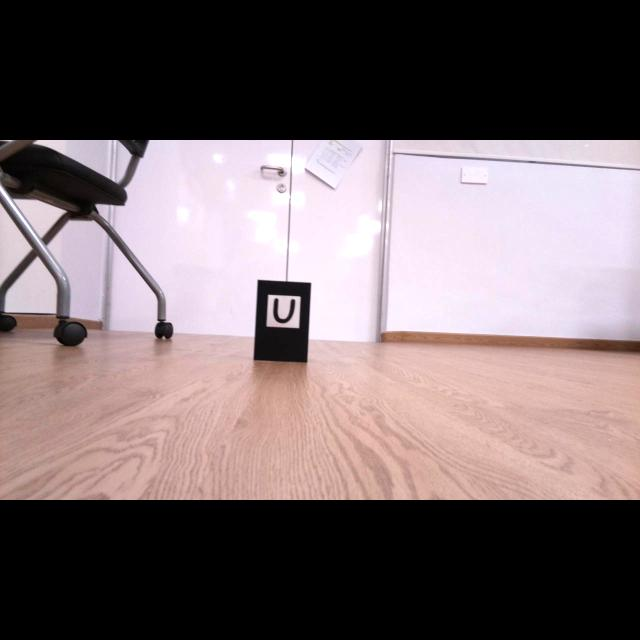U: (273, 298, 295, 324)
